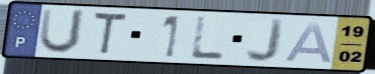1: (158, 14, 181, 59)
A: (281, 21, 335, 65)
J: (243, 16, 287, 65)
L: (188, 15, 228, 62)
T: (90, 9, 130, 57)
U: (36, 6, 89, 56)
